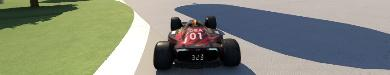Car: (152, 15, 241, 69)
grass: (0, 0, 134, 74)
obstacles-Borders: (0, 0, 40, 6)
